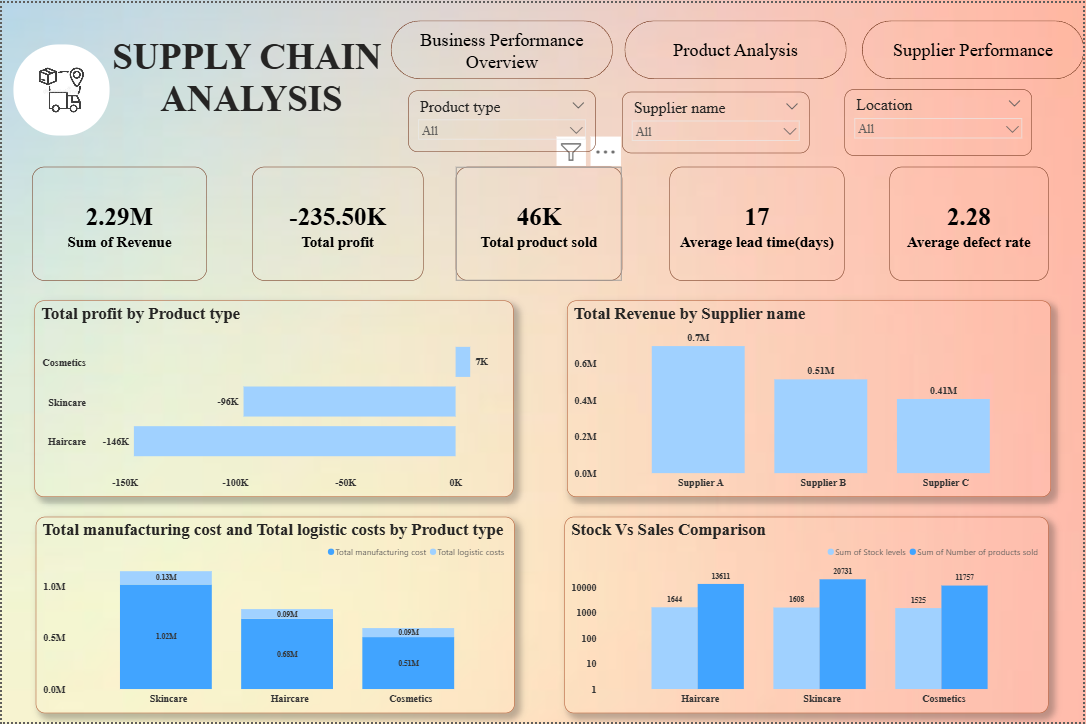

The page's visual inventory and layout, read from the dashboard file:
{"tool":"powerbi","page":{"name":"Business Performance Overview","canvas":[1731,1150],"ordinal":0},"visuals":[{"type":"image","box":[18,66,154,146],"z":0},{"type":"card","fields":{"Values":["project_supply_chain_data Supplier_Performance.Average defect rate"]},"box":[1420,262.2,254,182],"z":1000},{"type":"card","fields":{"Values":["project_supply_chain_data Supplier_Performance.Average lead time"]},"box":[1068,262.2,280,182],"z":2000},{"type":"card","fields":{"Values":["project_supply_chain_data supply_chain_data.Total profit"]},"box":[400,262.2,274,182],"z":3000},{"type":"card","fields":{"Values":["Sum(project_supply_chain_data supply_chain_data.Revenue)"]},"box":[48,262.2,280,182],"z":4000},{"type":"textbox","box":[160,30,478,182],"z":5000},{"type":"card","fields":{"Values":["project_supply_chain_data Supplier_Performance.Total product sold"]},"box":[726,262.2,266,182],"z":6000},{"type":"shape","title":"Business Performance Overview","box":[621.6,28.1,355.5,93.8],"z":7000},{"type":"shape","box":[996.6,28.1,355.5,93.8],"z":8000},{"type":"shape","box":[1375.5,28.1,355.5,93.8],"z":9000},{"type":"clusteredBarChart","fields":{"Category":["project_supply_chain_data supply_chain_data.Product type"],"Y":["project_supply_chain_data Supplier_Performance.Total profit"]},"box":[52.7,476.4,766,314],"z":10000},{"type":"clusteredColumnChart","title":"Total Revenue by Supplier name","fields":{"Category":["project_supply_chain_data supply_chain_data.Supplier name"],"Y":["Sum(project_supply_chain_data supply_chain_data.Revenue)"]},"box":[904.7,476.4,774,314],"z":11000},{"type":"clusteredColumnChart","title":"Stock Vs Sales Comparison","fields":{"Category":["project_supply_chain_data supply_chain_data.Product type"],"Y":["Sum(project_supply_chain_data supply_chain_data.Stock levels)","Sum(project_supply_chain_data supply_chain_data.Number of products sold)"]},"box":[900,822.3,774,314],"z":12000},{"type":"columnChart","fields":{"Category":["project_supply_chain_data supply_chain_data.Product type"],"Y":["project_supply_chain_data supply_chain_data.Total manufacturing cost","project_supply_chain_data supply_chain_data.Total logistic costs"]},"box":[53,822,766,314],"z":13000},{"type":"slicer","fields":{"Values":["project_supply_chain_data supply_chain_data.Product type"]},"box":[650,140,300,98],"z":14000},{"type":"slicer","fields":{"Values":["project_supply_chain_data supply_chain_data.Supplier name"]},"box":[992,142,300,98],"z":15000},{"type":"slicer","fields":{"Values":["project_supply_chain_data supply_chain_data.Location"]},"box":[1348,138,300,106],"z":16000}]}

Visuals, with their boxes in screenshot pixels (x1, y1, x2, y2), scaled from the page's 1731x1150 canvas onto the 1086x724 screenshot:
image: (left=11, top=42, right=108, bottom=133)
card - project_supply_chain_data Supplier_Performance.Average defect rate: (left=891, top=165, right=1050, bottom=280)
card - project_supply_chain_data Supplier_Performance.Average lead time: (left=670, top=165, right=846, bottom=280)
card - project_supply_chain_data supply_chain_data.Total profit: (left=251, top=165, right=423, bottom=280)
card - Sum(project_supply_chain_data supply_chain_data.Revenue): (left=30, top=165, right=206, bottom=280)
textbox: (left=100, top=19, right=400, bottom=133)
card - project_supply_chain_data Supplier_Performance.Total product sold: (left=455, top=165, right=622, bottom=280)
"Business Performance Overview" shape: (left=390, top=18, right=613, bottom=77)
shape: (left=625, top=18, right=848, bottom=77)
shape: (left=863, top=18, right=1085, bottom=77)
clusteredBarChart - project_supply_chain_data supply_chain_data.Product type x project_supply_chain_data Supplier_Performance.Total profit: (left=33, top=300, right=514, bottom=498)
"Total Revenue by Supplier name" clusteredColumnChart: (left=568, top=300, right=1053, bottom=498)
"Stock Vs Sales Comparison" clusteredColumnChart: (left=565, top=518, right=1050, bottom=715)
columnChart - project_supply_chain_data supply_chain_data.Product type x project_supply_chain_data supply_chain_data.Total manufacturing cost: (left=33, top=518, right=514, bottom=715)
slicer - project_supply_chain_data supply_chain_data.Product type: (left=408, top=88, right=596, bottom=150)
slicer - project_supply_chain_data supply_chain_data.Supplier name: (left=622, top=89, right=811, bottom=151)
slicer - project_supply_chain_data supply_chain_data.Location: (left=846, top=87, right=1034, bottom=154)
